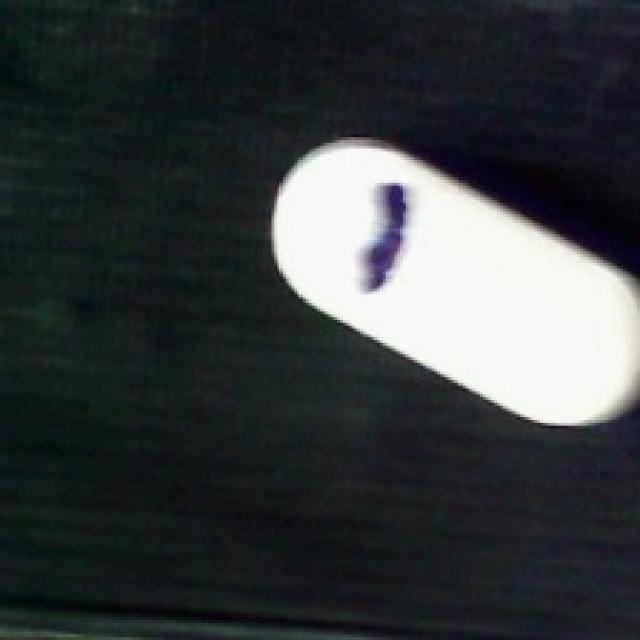defected: (266, 135, 640, 436)
